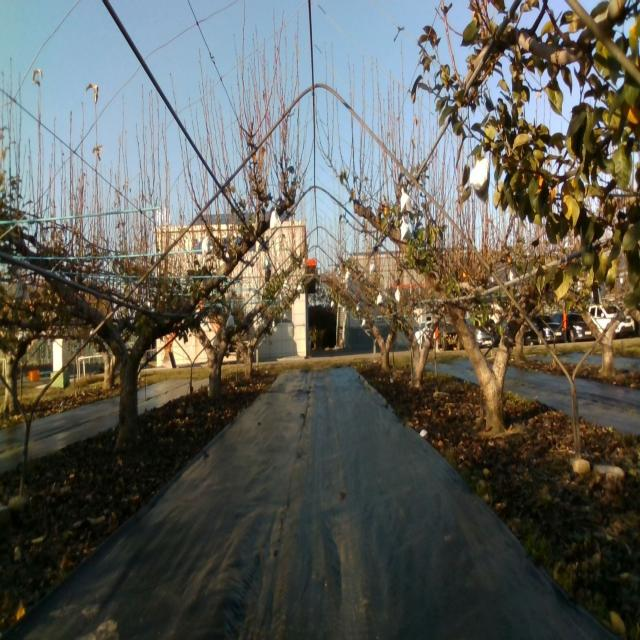pearbags: (469, 157, 489, 205), (399, 187, 412, 215), (400, 216, 412, 243), (269, 208, 281, 230), (202, 233, 213, 257)
